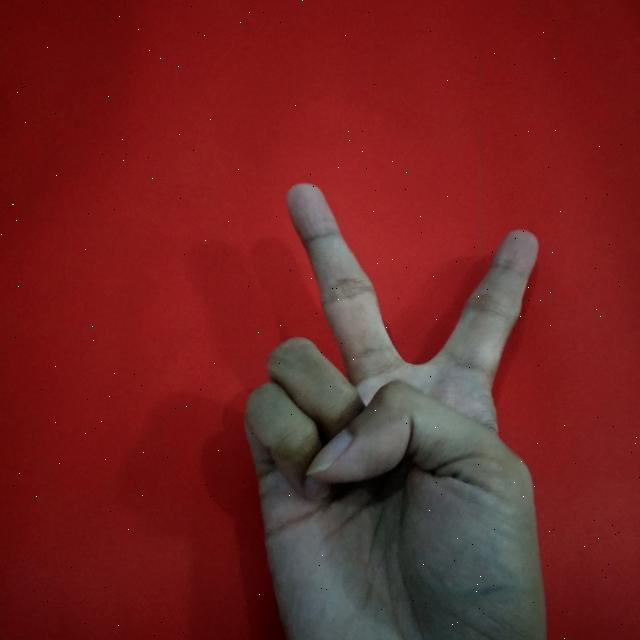V: (235, 169, 554, 640)
